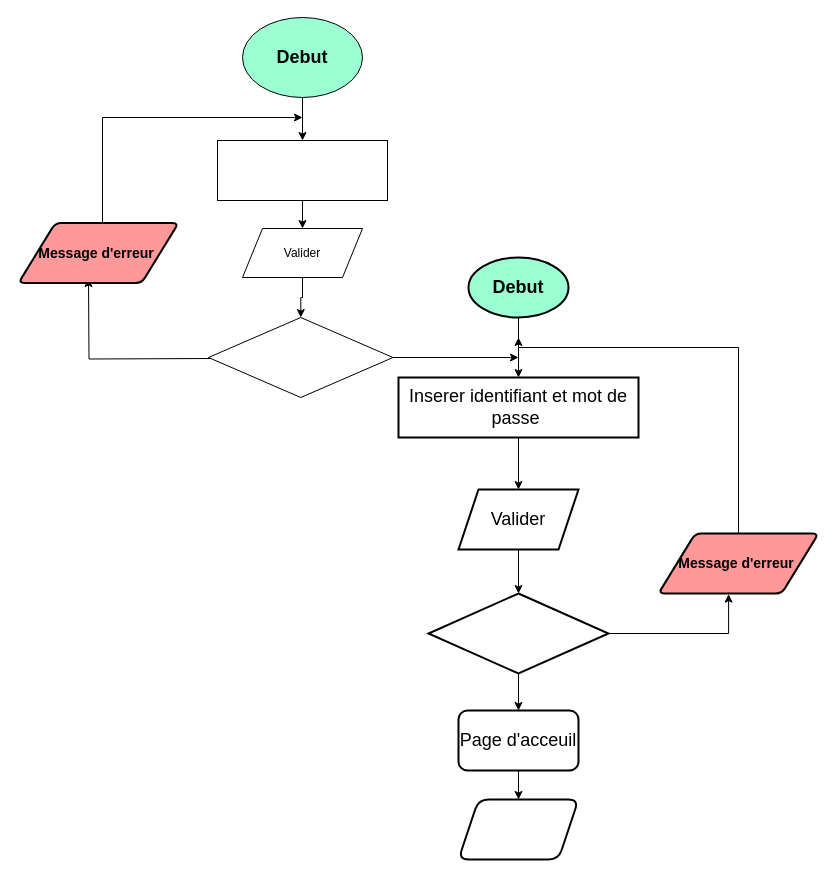
This 836x878 diagram has some shape labels left out. Here are the shapes that lost their labels. From the top down, the centre of each, then its label:
At point 302,170: "Insérer les informations nécessaires à votre inscription".
At point 300,357: "Si data != 0".
At point 518,633: "si login checked".
At point 518,829: "Fin".
